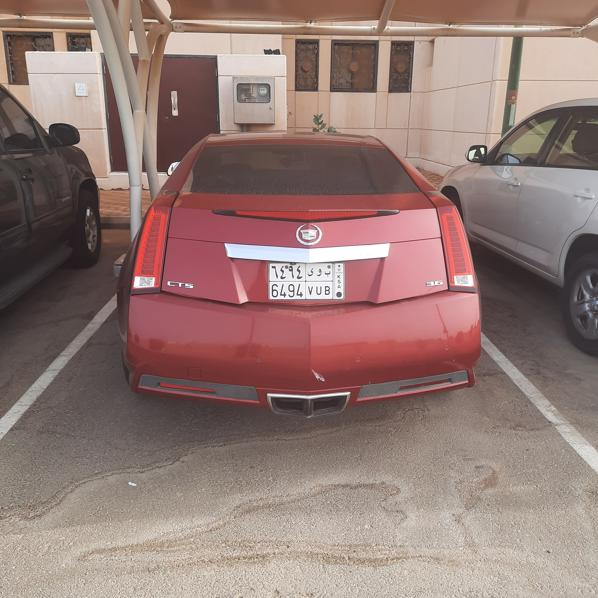numberplate: (268, 262, 344, 300)
